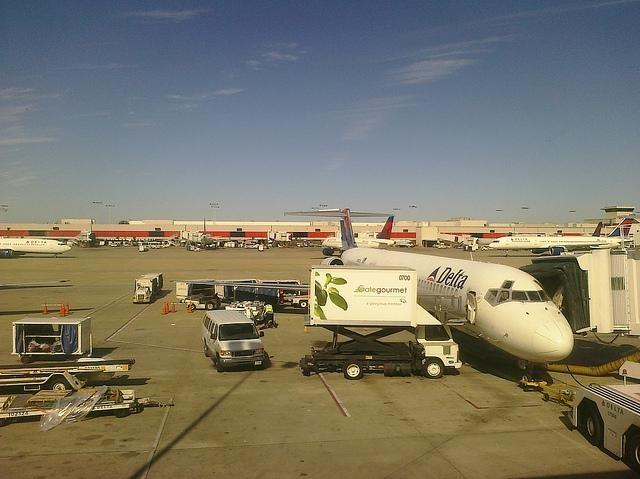car: (198, 306, 274, 371), (297, 243, 303, 247), (304, 243, 308, 246)
truck: (301, 323, 463, 382), (132, 272, 164, 303), (175, 280, 215, 302)
